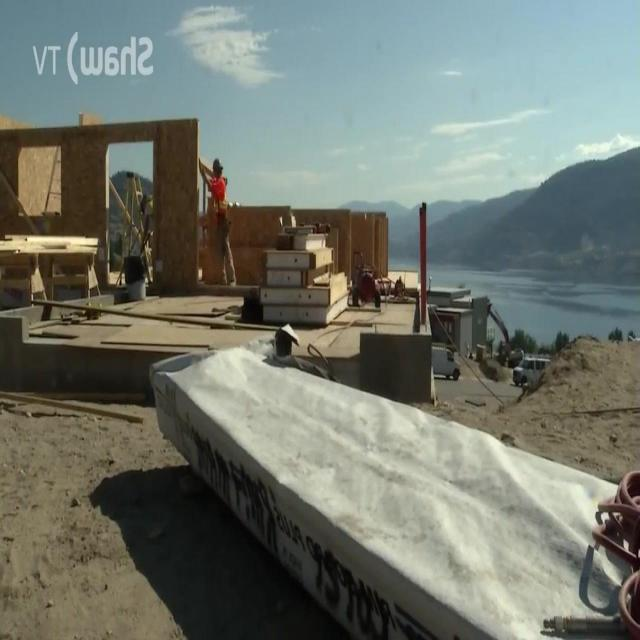Reflective-Jacket: (208, 173, 230, 226)
Safety-Helmet: (211, 155, 224, 173)
